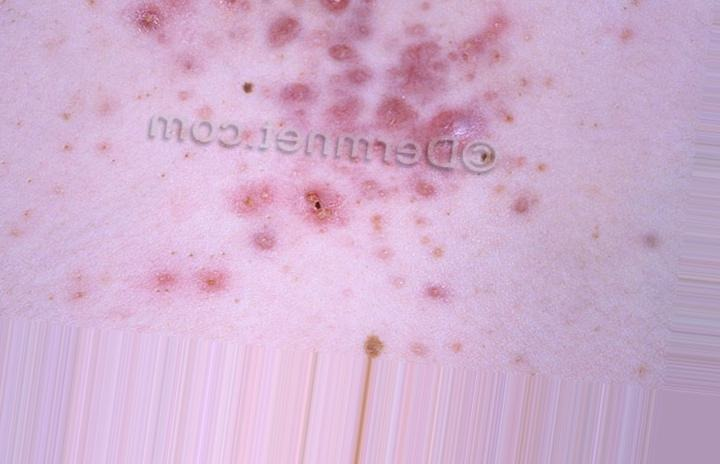Acne: (129, 12, 518, 227)
